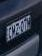0: (21, 20, 24, 31)
7: (23, 17, 27, 30)
C: (9, 26, 12, 38)
M: (11, 25, 16, 37), (26, 16, 30, 28)
Z: (15, 22, 19, 36)
